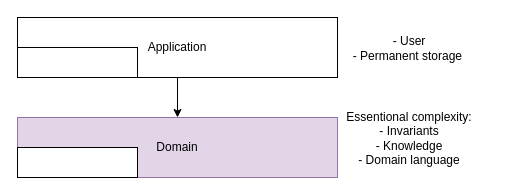
Image size: 512x195. Some labels were removed from this diagram. The box of each missing label's shape, as (x1, y1, x2, y2) in pixels:
CreditCard: (16, 146, 138, 178)
CreditCardFacade: (16, 46, 138, 78)
